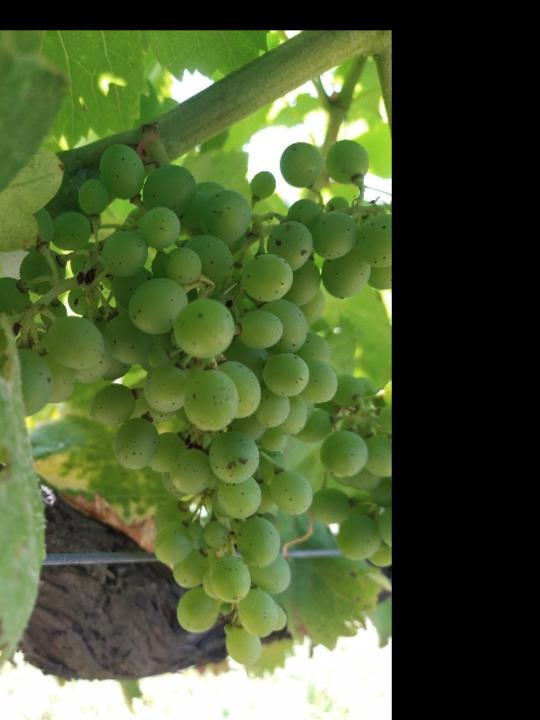grape: (0, 138, 388, 669)
